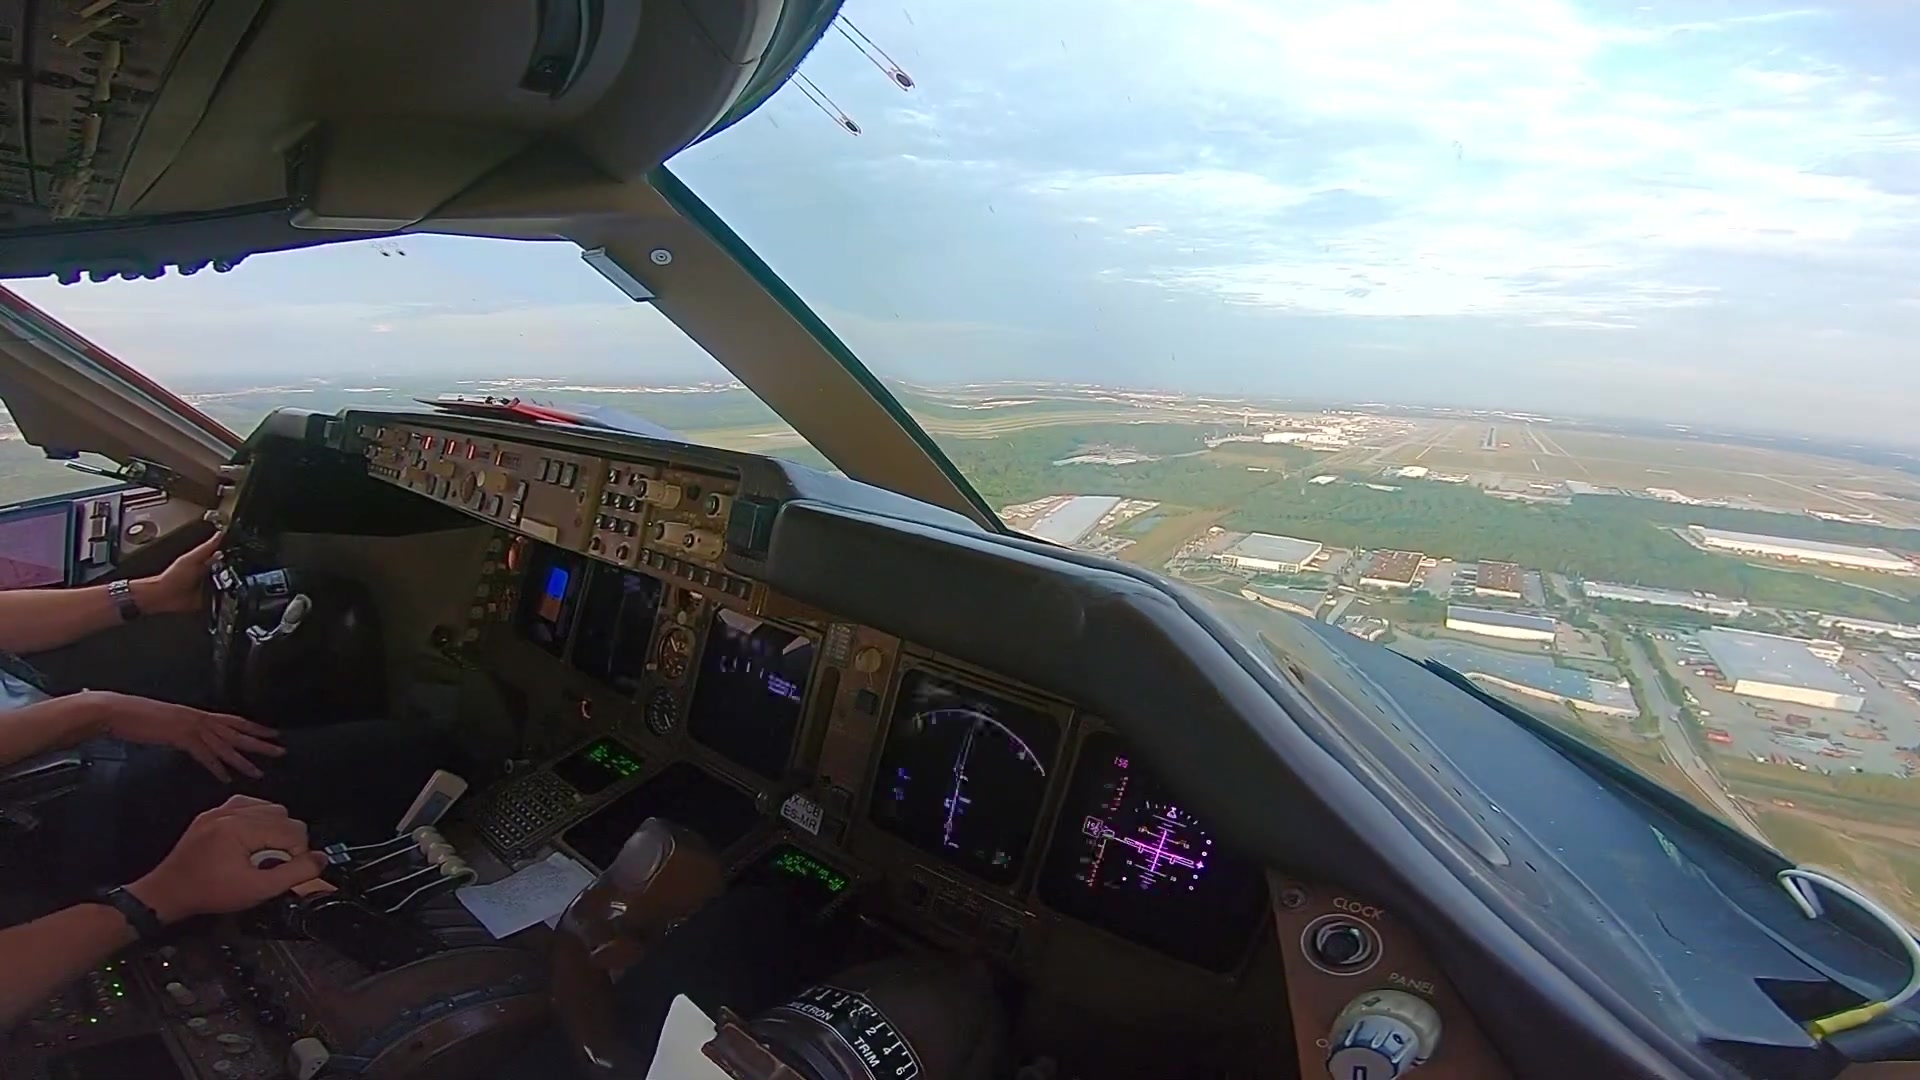runway: (1480, 425, 1499, 451)
